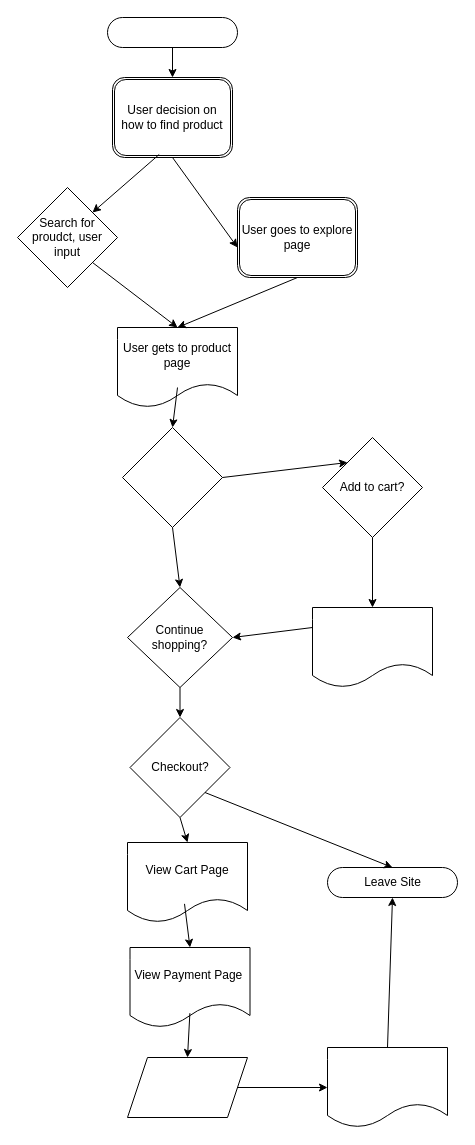
The diagram is 475 pixels wide and 1145 high, and some of its shapes have lost their labels. The centre of each missing label's shape, as x and y in pixels:
"Cart Confirmation Page" goes at (372,647).
"Enter Payment Info" goes at (187,1087).
"Payment Confirmation and Email" goes at (387,1087).
"User enters website" goes at (172,32).
"View Page?" goes at (172,477).
